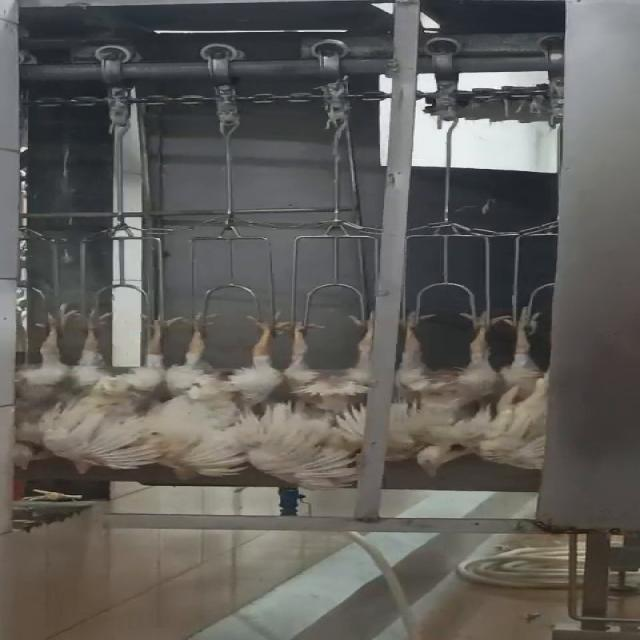chicken: (267, 301, 397, 494), (160, 307, 299, 483), (62, 304, 179, 480), (391, 300, 499, 481), (0, 302, 91, 478), (486, 306, 574, 472)
